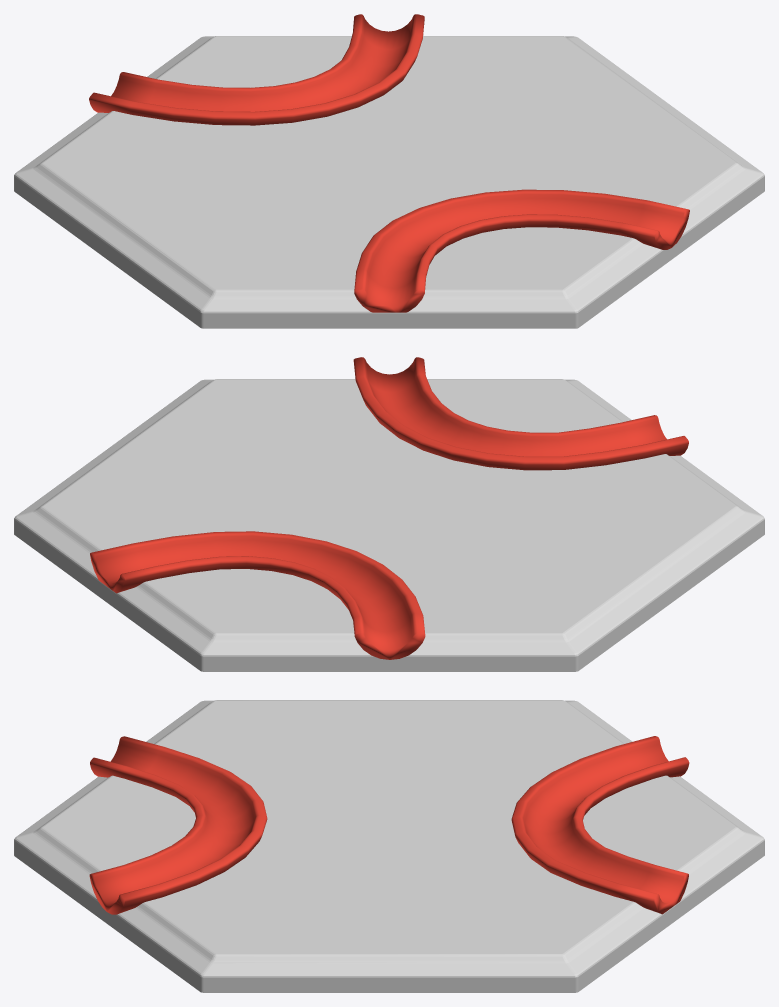
Rendered from tile_2corners_a.glb.
3 views of the same model, one above another, from view 1: azimuth 30°, elevation 25°; view 2: azimuth 150°, elevation 25°; view 3: azimuth 270°, elevation 25° (orthographic).
Parts seen in each view (by area): view 1: corner_tunnel.006; view 2: corner_tunnel.006; view 3: corner_tunnel.006.
Part boxes in pixels (box(x1,y1,x2,y2)): corner_tunnel.006: box(14, 14, 764, 328); corner_tunnel.006: box(14, 357, 764, 671); corner_tunnel.006: box(14, 700, 764, 992).
Size of the model in its own units: 1.73 by 0.1158 by 2.
